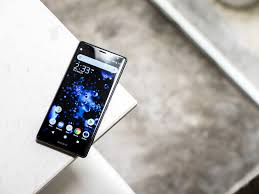sony: (32, 38, 129, 160)
